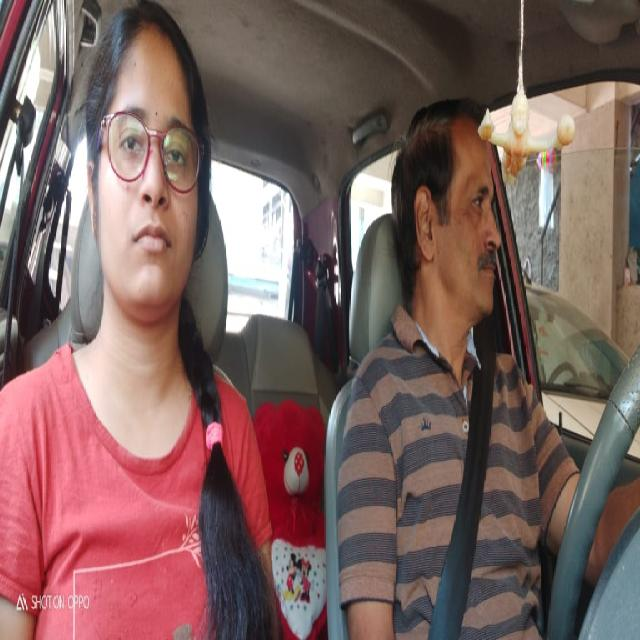LeftRight: (394, 63, 504, 386)
person: (82, 7, 231, 378)
